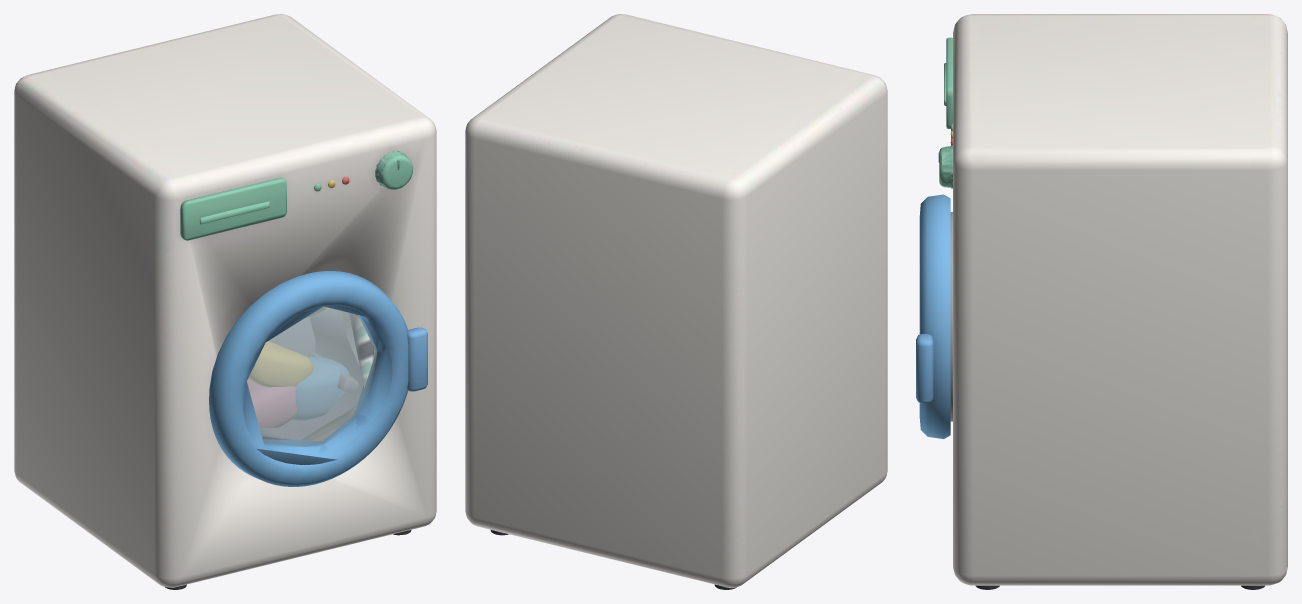
Rendered from g3d_washing_machine.glb.
3 renders of one model, left to right at view 1: azimuth 30°, elevation 25°; view 2: azimuth 150°, elevation 25°; view 3: azimuth 270°, elevation 25°, orthographic. The views are drawn at different scales.
Visible parts, largest first — view 1: washing-machine_body, washing-machine_door, washing-machine_door_glass, washing-machine_door_glass_lo, washing-machine_body_lo, washing-machine_door_lo; view 2: washing-machine_body; view 3: washing-machine_body, washing-machine_door.
Boxes of the visible parts, x1=… form: washing-machine_body: x1=14, y1=14, x2=436, y2=589; washing-machine_door: x1=209, y1=271, x2=427, y2=486; washing-machine_door_glass: x1=247, y1=307, x2=376, y2=446; washing-machine_door_glass_lo: x1=247, y1=307, x2=376, y2=445; washing-machine_body_lo: x1=200, y1=150, x2=406, y2=441; washing-machine_door_lo: x1=243, y1=305, x2=392, y2=464; washing-machine_body: x1=465, y1=14, x2=887, y2=589; washing-machine_body: x1=938, y1=14, x2=1287, y2=589; washing-machine_door: x1=916, y1=194, x2=950, y2=438.
Bounding box in the file's own units: 0.6 × 0.85 × 0.644.
3 materials, 2 textured.
